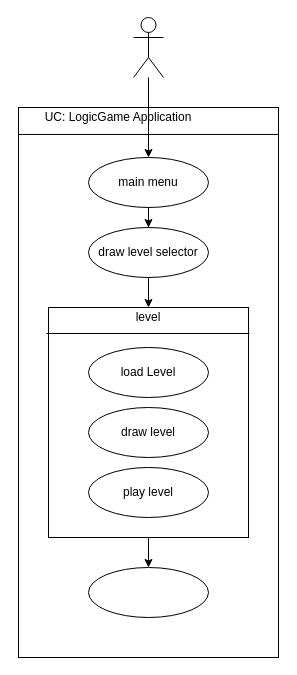
This 297x675 diagram has some shape labels left out. The shapes that lost their labels are listed below. From the top down, each one's centre as x and y in pixels, then its label:
the point at 148,47: Actor
the point at 148,592: quit game
